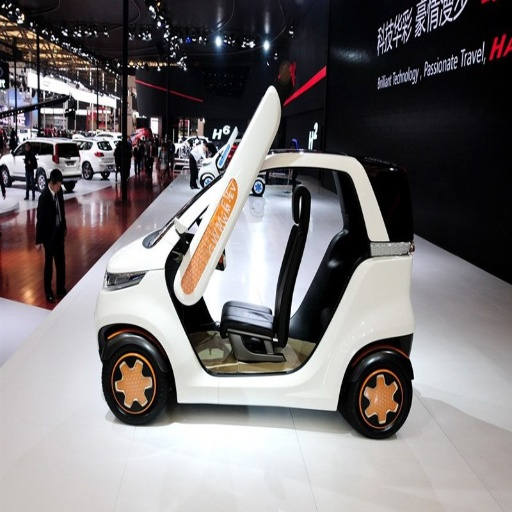trunk: (196, 200, 292, 332)
